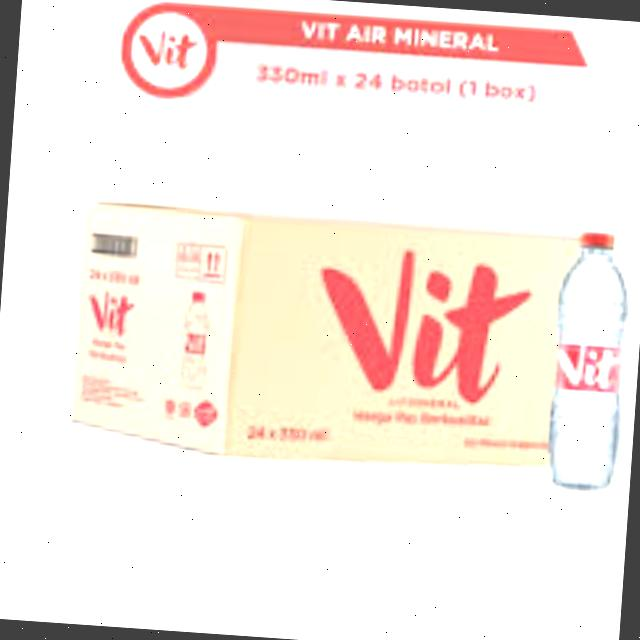trash: (542, 228, 640, 495)
